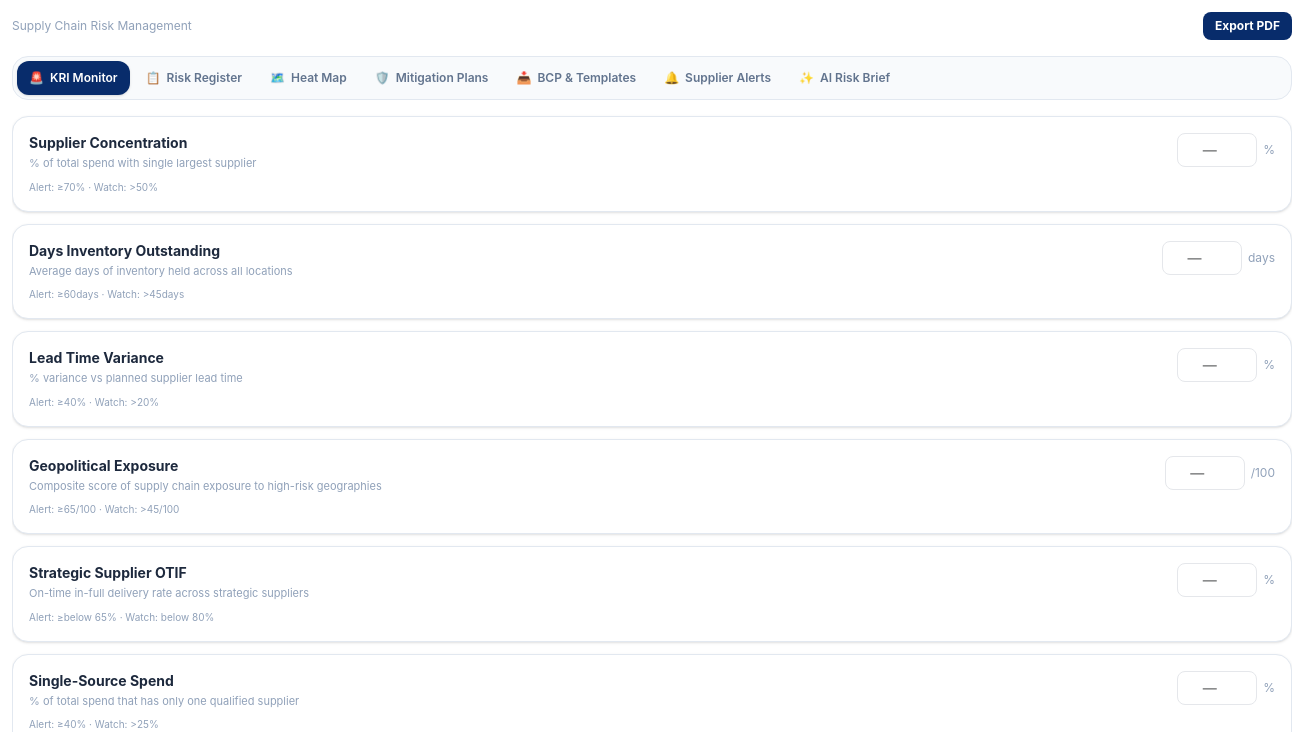
Scenario: KRIDashboard — Generate button › Generate button is disabled when no KRI values are entered
This screenshot has width=1304, height=732.
Click the tab "✨ AI Risk Brief" at {"x": 845, "y": 78}, box [787,61,902,95]
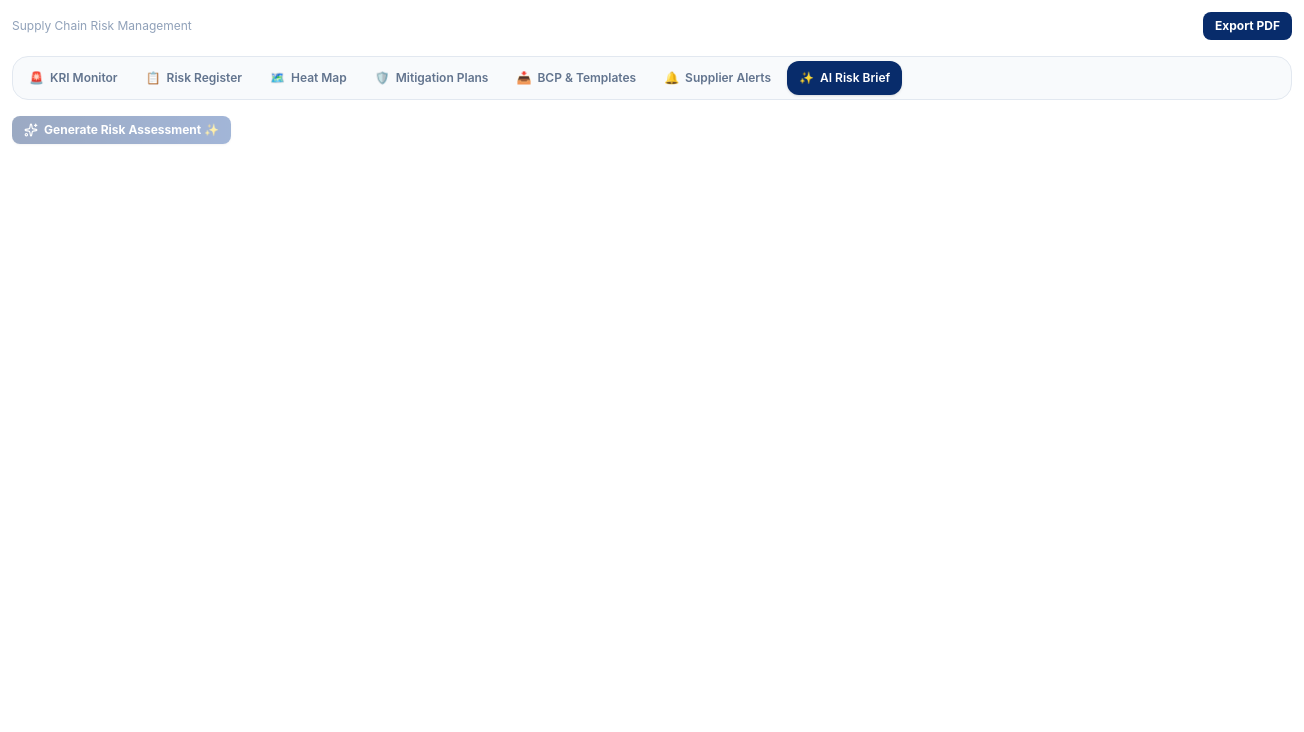
Expected: the button "Generate Risk Assessment ✨" is disabled, [12,116,231,144]
